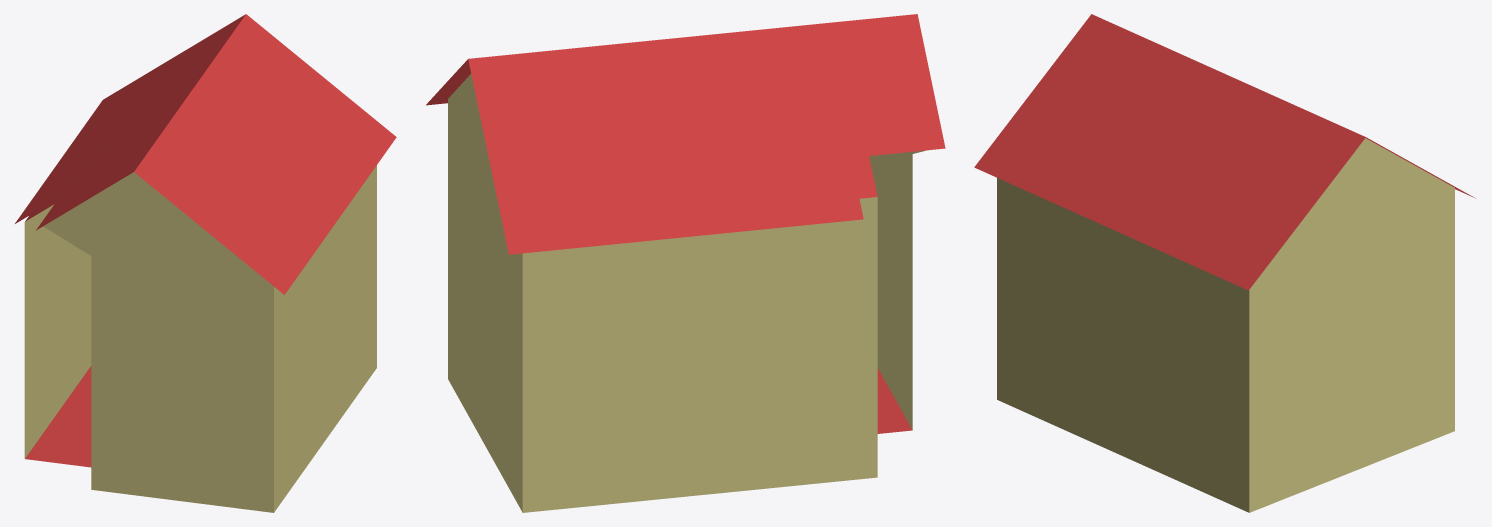
3 views of the same model, side by side, from view 1: azimuth 30°, elevation 25°; view 2: azimuth 150°, elevation 25°; view 3: azimuth 270°, elevation 25° (orthographic). The views are drawn at different scales.
Size of the model in its own units: 14.64 by 15.54 by 11.54.
